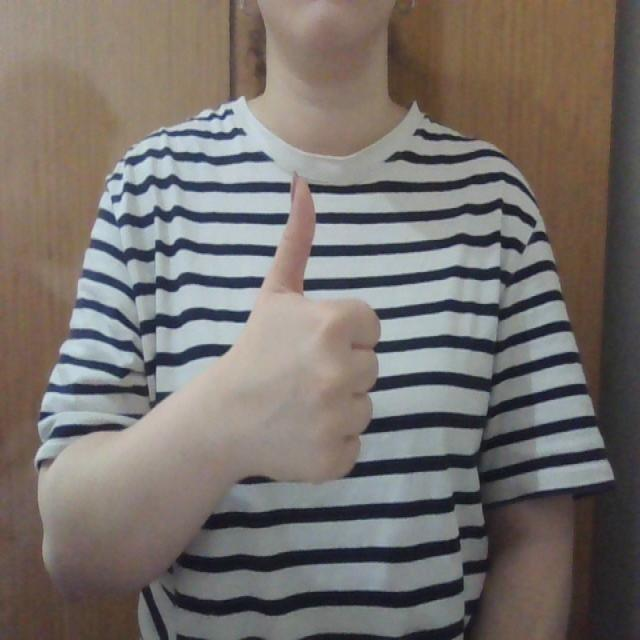Tamam: (217, 162, 387, 491)
